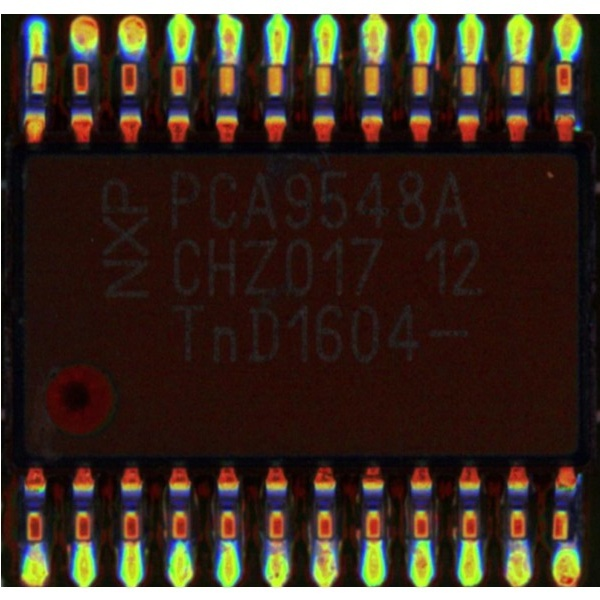Bad_podu: (316, 529, 331, 562), (221, 46, 234, 83), (123, 526, 138, 558), (269, 526, 281, 560), (30, 42, 38, 69)
Bad_qiaojiao: (23, 61, 30, 104)
